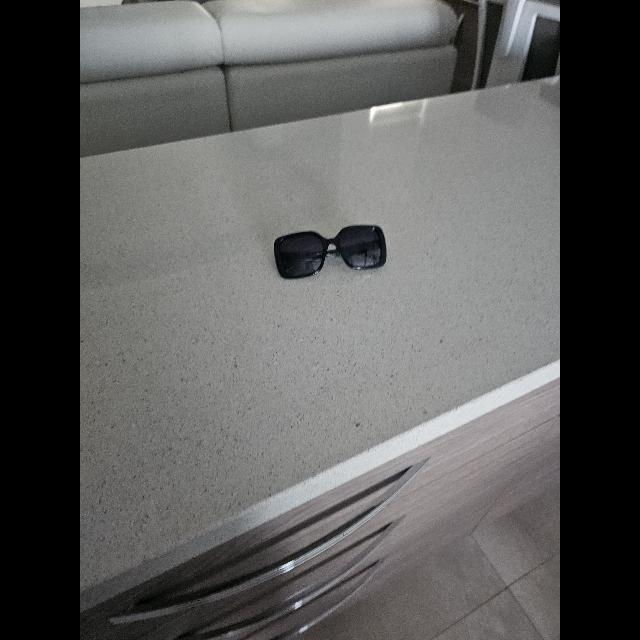Sunglasses: (274, 226, 386, 278)
